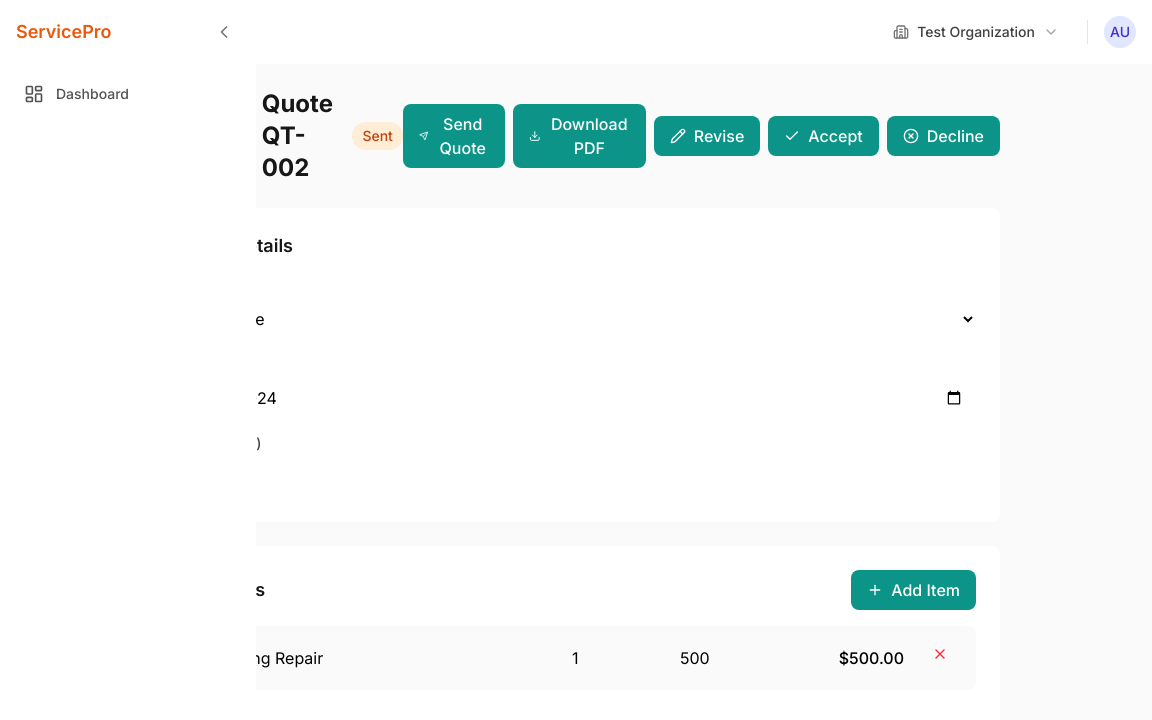
Scenario: Quote Workflow Integration › Quote Status Transitions › should keep a sent quote read-only until it is revised
Click the button "Revise" at point(707, 136), box [654,116,760,156]
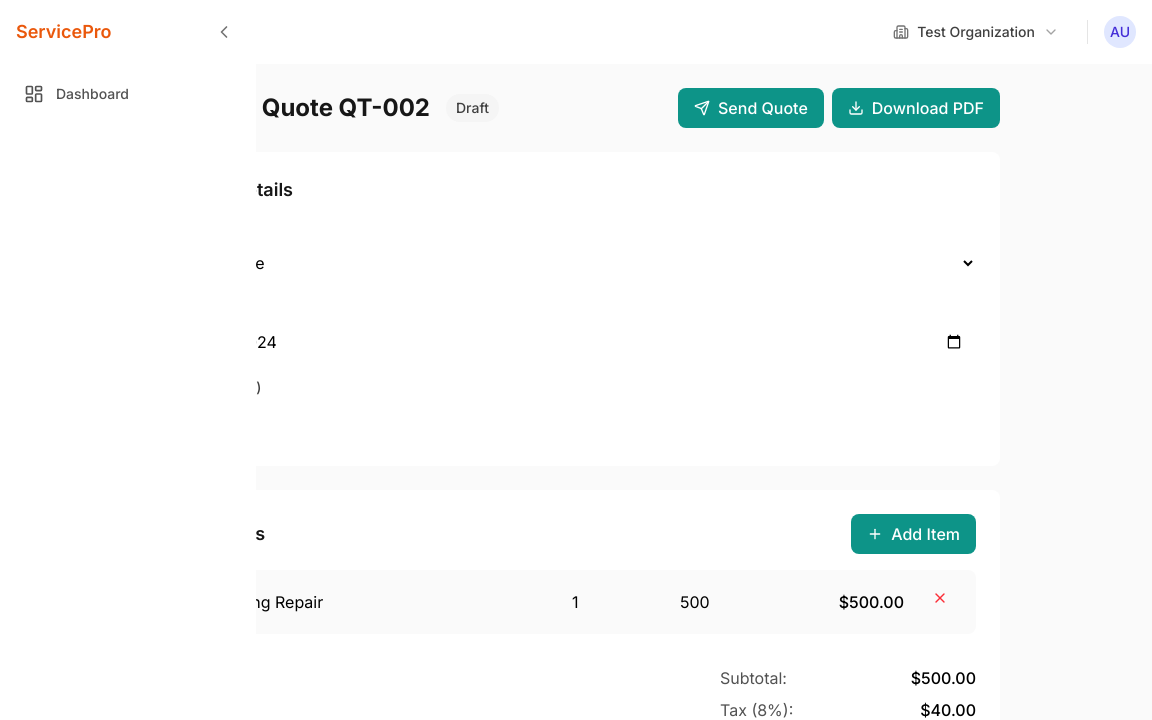
Check: the button "Revise" is gone
Check: the text "Draft" is shown, box [446,94,499,122]
